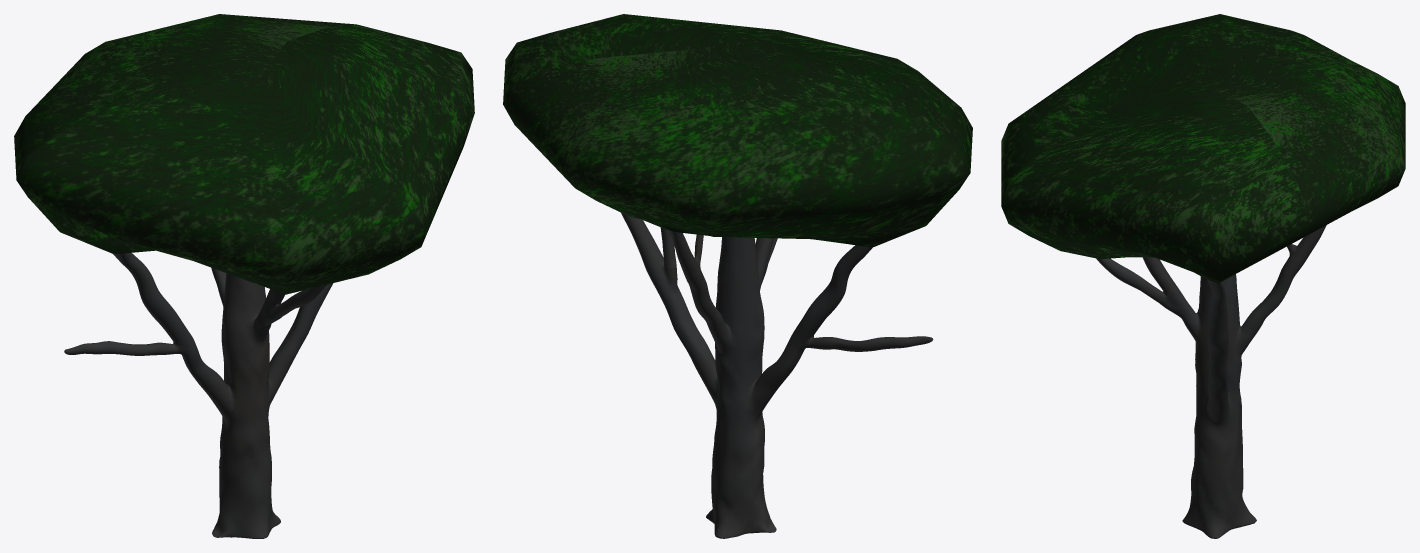
The model's file is tree.fbx.
3 views of the same model, side by side, from view 1: azimuth 30°, elevation 25°; view 2: azimuth 150°, elevation 25°; view 3: azimuth 270°, elevation 25° (orthographic). The views are drawn at different scales.
Parts seen in each view (by area): view 1: PM3D_Cylinder3D1; view 2: PM3D_Cylinder3D1; view 3: PM3D_Cylinder3D1.
Boxes of the visible parts, left/top/right/bottom form: PM3D_Cylinder3D1: left=14, top=14, right=474, bottom=538; PM3D_Cylinder3D1: left=503, top=14, right=972, bottom=538; PM3D_Cylinder3D1: left=1001, top=14, right=1405, bottom=538.
Size of the model in its own units: 18.82 by 18.29 by 14.98.
